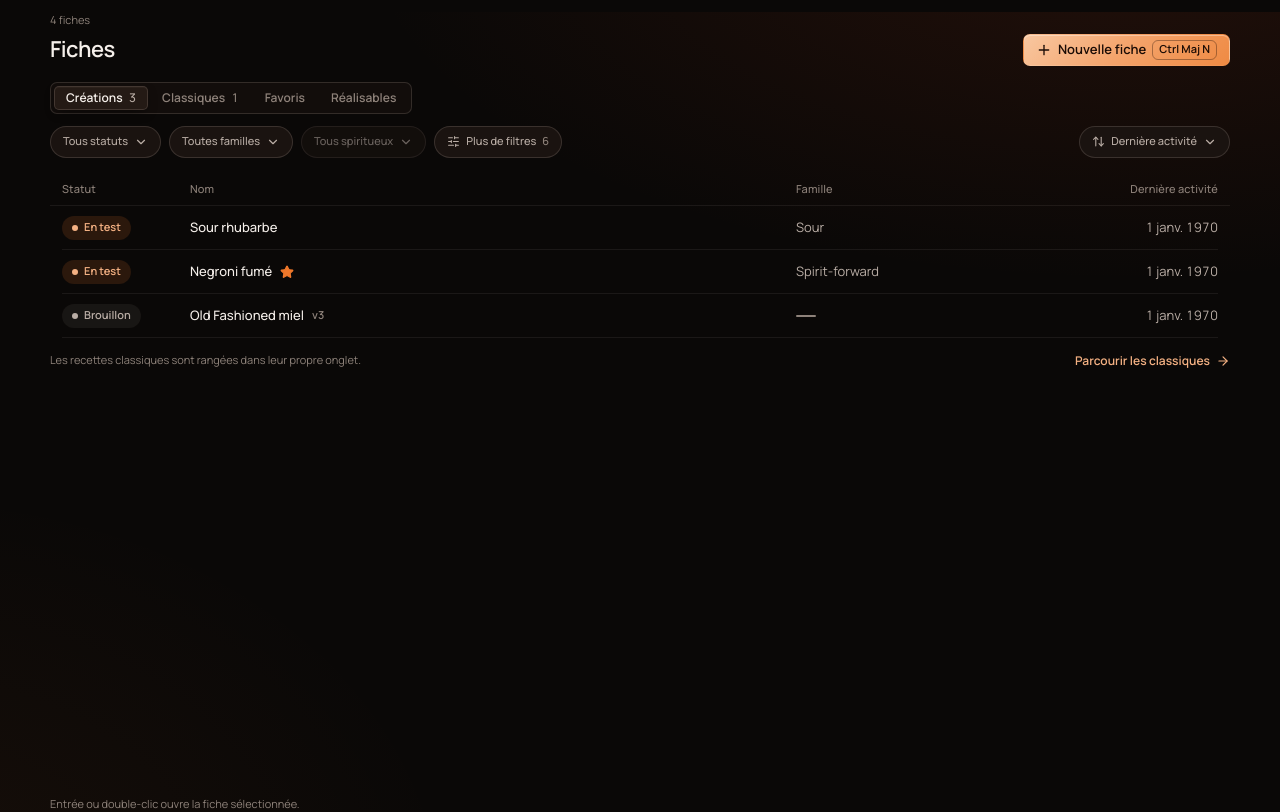
Scenario: RecipesPage › points to the classics at the end of the creations
The image size is (1280, 812).
Expected: the list named "Liste des fiches" is shown, x1=50 y1=206 x2=1230 y2=338
Expected: the text "Les recettes classiques sont rangées dans leur propre onglet." is shown, x1=50 y1=352 x2=361 y2=369
What coordinates should you click on to do the following:
click the button "Parcourir les classiques"
I would click on:
 (1152, 360)
Its box is x1=1075 y1=352 x2=1230 y2=370.
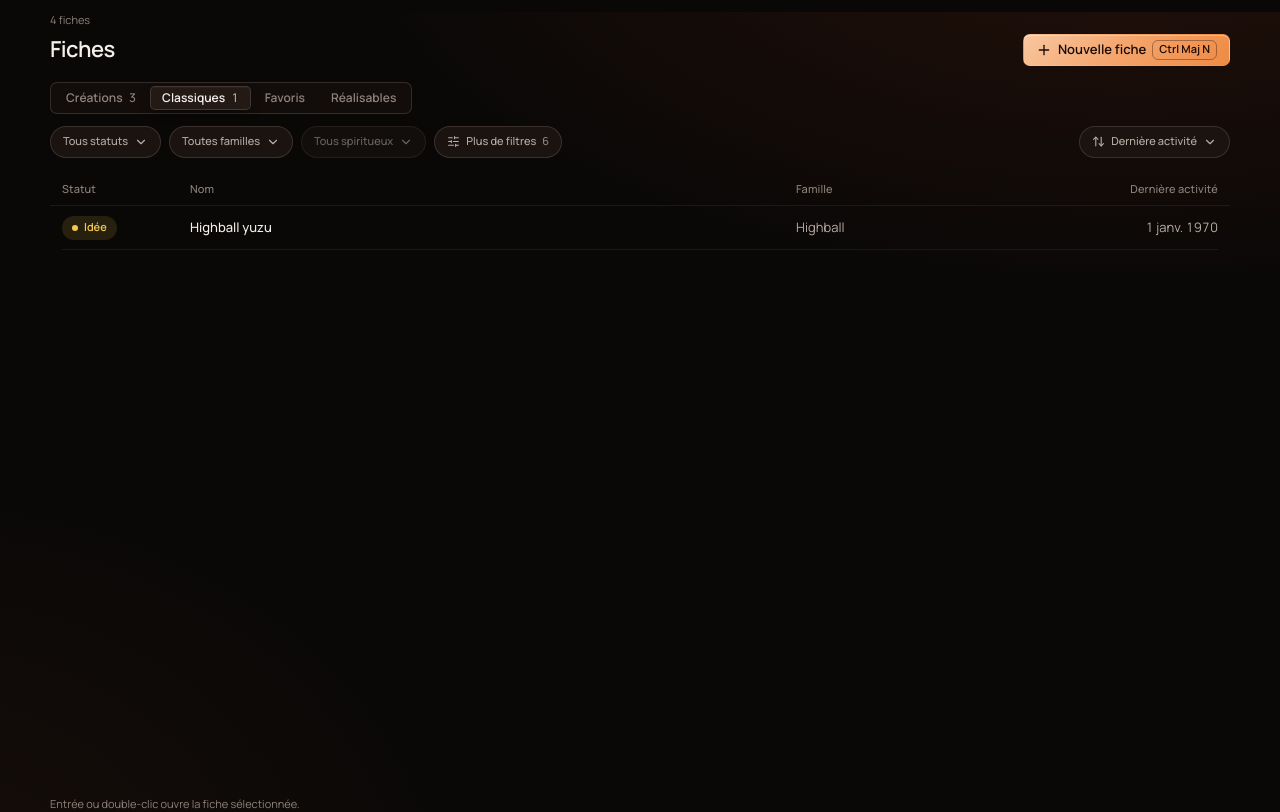
Now the text "Les recettes classiques sont rangées dans leur propre onglet." is gone
